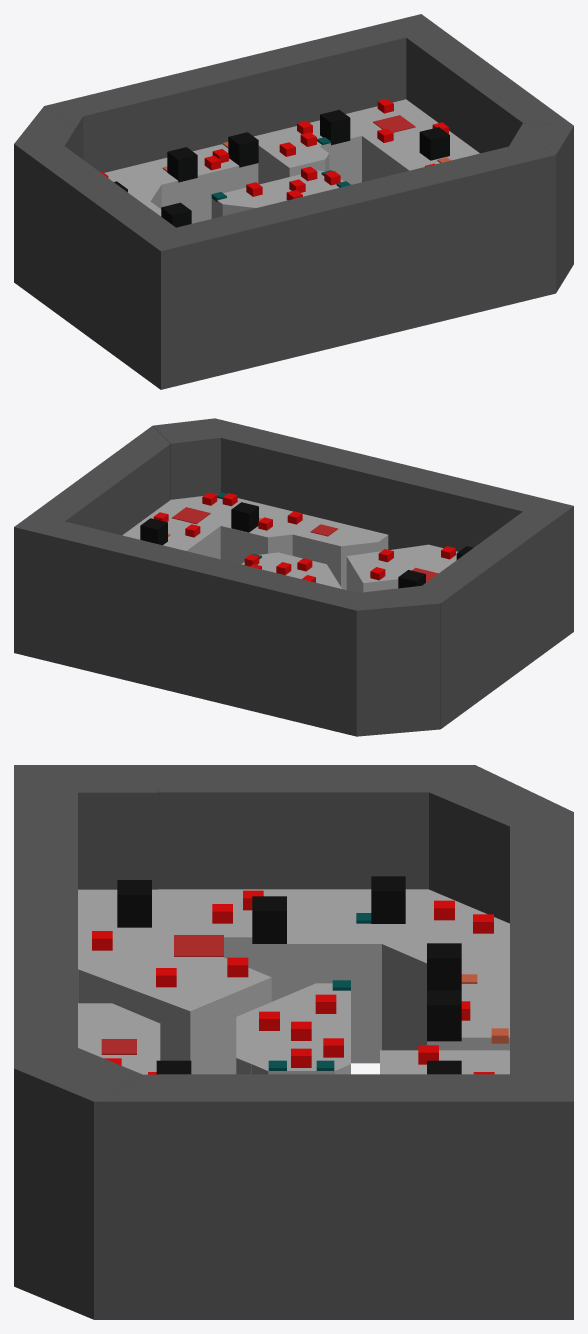
File: Lvl3_Room3.fbx
The picture shows the model from 3 angles, top to bottom: view 1: azimuth 30°, elevation 25°; view 2: azimuth 150°, elevation 25°; view 3: azimuth 270°, elevation 25°; orthographic projection. The views are drawn at different scales.
Parts seen in each view (by area): view 1: Walls7, Walls2, Walls5, Walls6, Walls1, Floor267, Walls9, Floor256, Walls8, Floor259, Walls4, Floor278 (+10 smaller); view 2: Walls2, Walls7, Walls5, Walls1, Walls4, Walls6, Walls9, Walls3, Floor259, Floor261, Floor262, Floor274 (+11 smaller); view 3: Walls1, Walls5, Walls8, Walls7, Walls2, Walls10, Floor274, Walls6, Floor269, Walls4, Floor267, Floor270 (+20 smaller).
Boxes of the visible parts, bbox=[...] form: Walls7: bbox=[176, 146, 529, 380]; Walls2: bbox=[63, 22, 406, 172]; Walls5: bbox=[14, 143, 149, 355]; Walls6: bbox=[115, 209, 196, 389]; Walls1: bbox=[386, 14, 552, 153]; Floor267: bbox=[104, 144, 258, 223]; Walls9: bbox=[509, 128, 555, 299]; Floor256: bbox=[254, 99, 431, 184]; Walls8: bbox=[520, 123, 573, 292]; Floor259: bbox=[362, 118, 479, 182]; Walls4: bbox=[14, 106, 75, 153]; Floor278: bbox=[222, 180, 331, 215]; Walls2: bbox=[46, 521, 357, 732]; Walls7: bbox=[221, 424, 540, 551]; Walls5: bbox=[422, 528, 532, 729]; Walls1: bbox=[14, 439, 166, 660]; Walls4: bbox=[356, 585, 440, 736]; Walls6: bbox=[500, 498, 573, 661]; Walls9: bbox=[182, 418, 238, 498]; Walls3: bbox=[339, 590, 384, 736]; Floor259: bbox=[122, 503, 229, 559]; Floor261: bbox=[292, 517, 363, 586]; Floor262: bbox=[220, 502, 292, 564]; Floor274: bbox=[346, 544, 427, 592]; Walls1: bbox=[158, 1074, 573, 1319]; Walls5: bbox=[158, 765, 475, 889]; Walls8: bbox=[14, 1068, 142, 1319]; Walls7: bbox=[14, 792, 77, 1047]; Walls2: bbox=[510, 826, 573, 1074]; Walls10: bbox=[94, 1074, 158, 1319]; Floor274: bbox=[78, 969, 271, 1074]; Walls6: bbox=[14, 765, 158, 889]; Floor269: bbox=[332, 889, 426, 1063]; Walls4: bbox=[429, 765, 573, 908]; Floor267: bbox=[427, 923, 509, 1050]; Floor270: bbox=[252, 889, 332, 1001].
Bounding box in the file's own units: 65.13 × 19.68 × 45.79.
